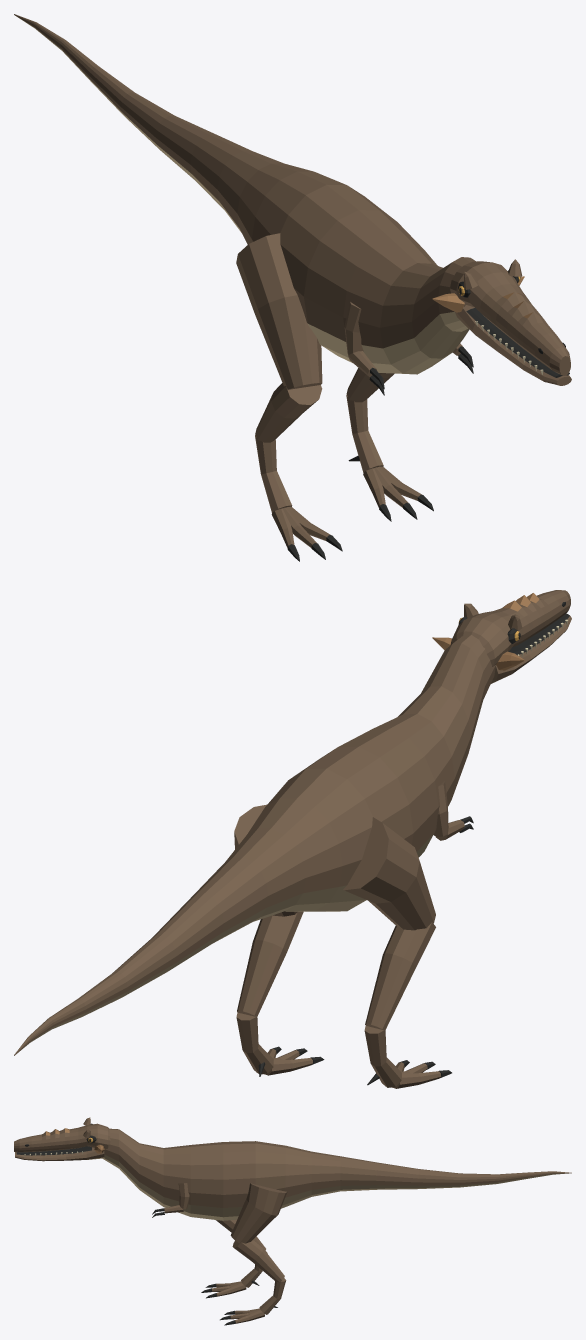
3 views of the same model, one above another, from view 1: azimuth 30°, elevation 25°; view 2: azimuth 150°, elevation 25°; view 3: azimuth 270°, elevation 25° (orthographic). The views are drawn at different scales.
Parts seen in each view (by area): view 1: static-export-surface; view 2: static-export-surface; view 3: static-export-surface.
Part boxes in pixels (box(x1,y1,x2,y2)): static-export-surface: box(14, 14, 571, 561); static-export-surface: box(14, 590, 571, 1088); static-export-surface: box(14, 1117, 571, 1325).
Bounding box in the file's own units: 0.9969 × 2.17 × 6.
